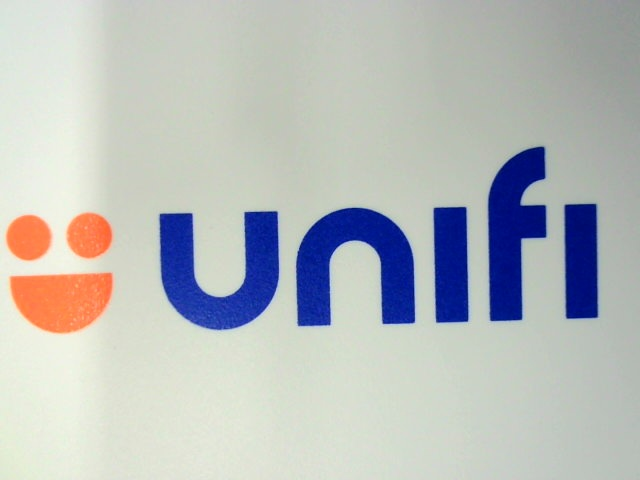BN_unifi: (4, 142, 606, 336)
